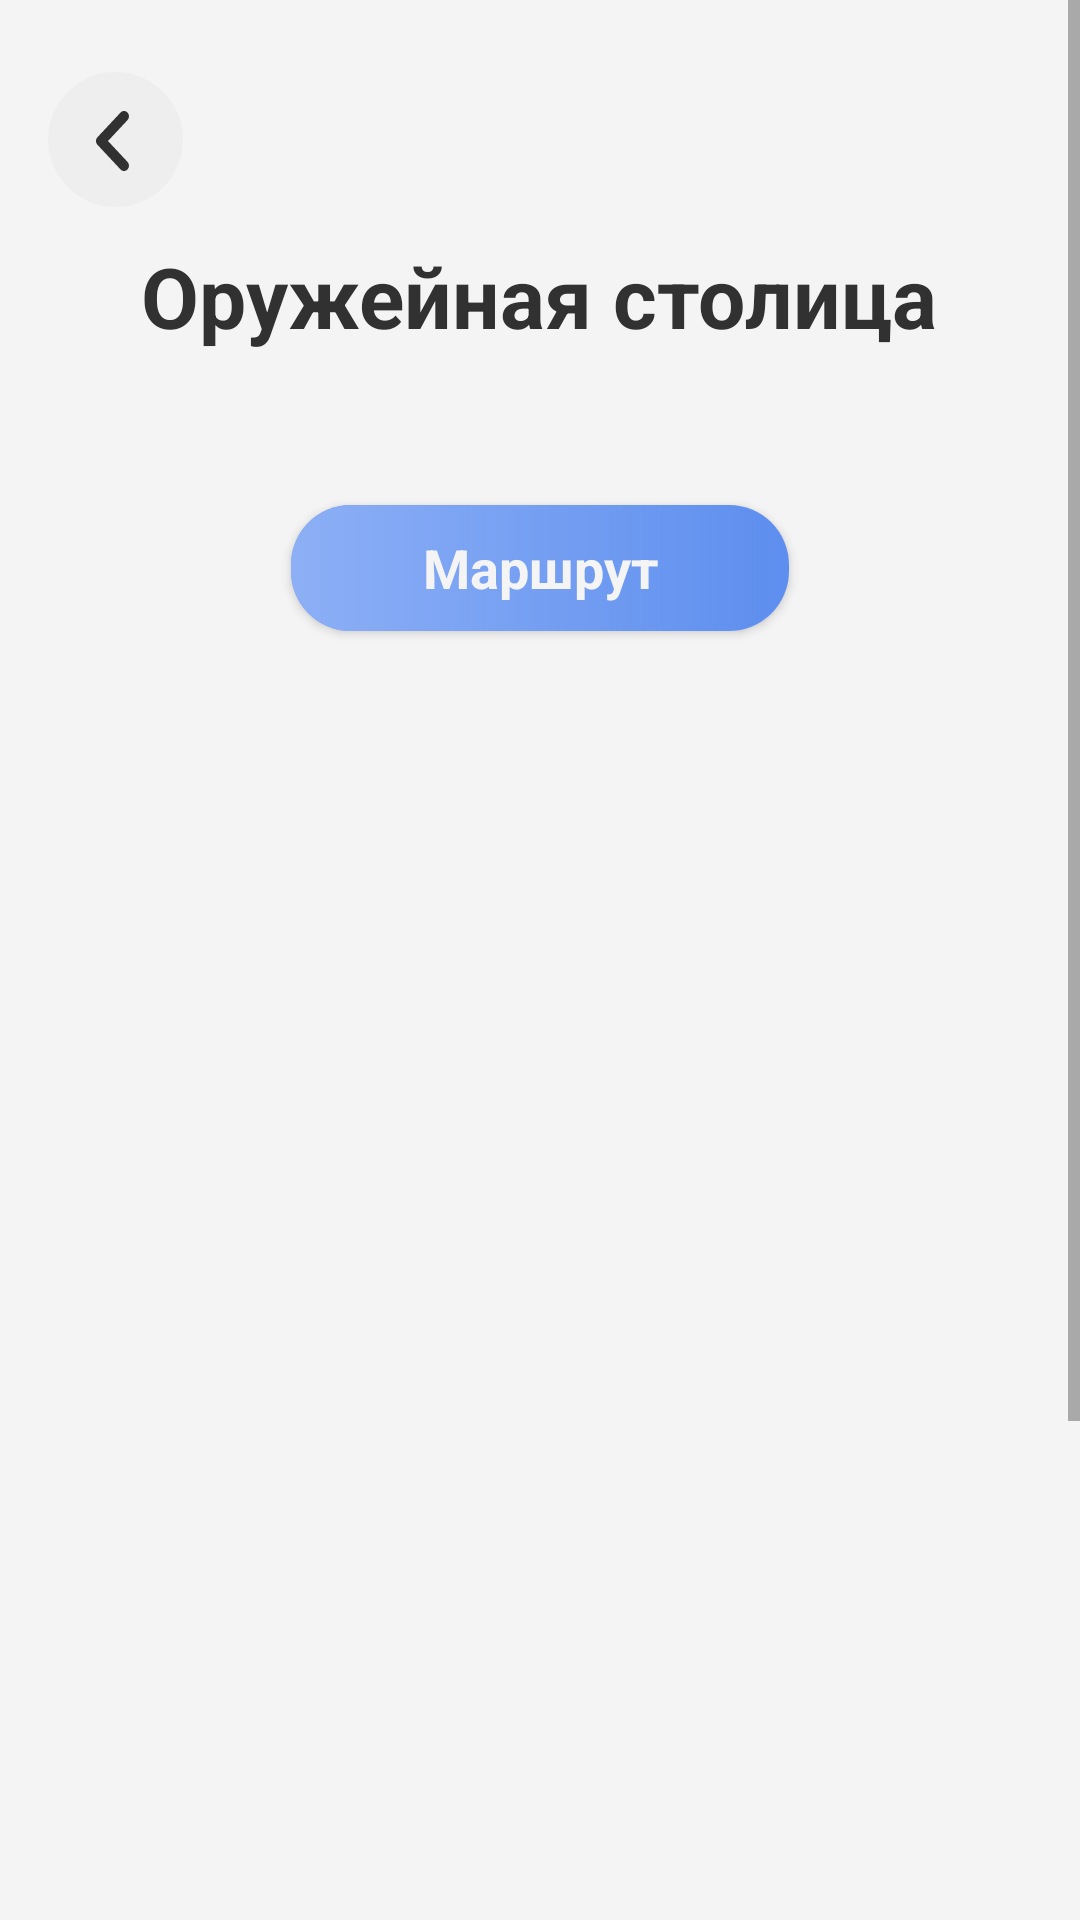

Locate icon controls on the screen. Image size 1080px×1920px, boxes as (x1, y1, x2, y2).
backbutton: (96, 111, 129, 171)
